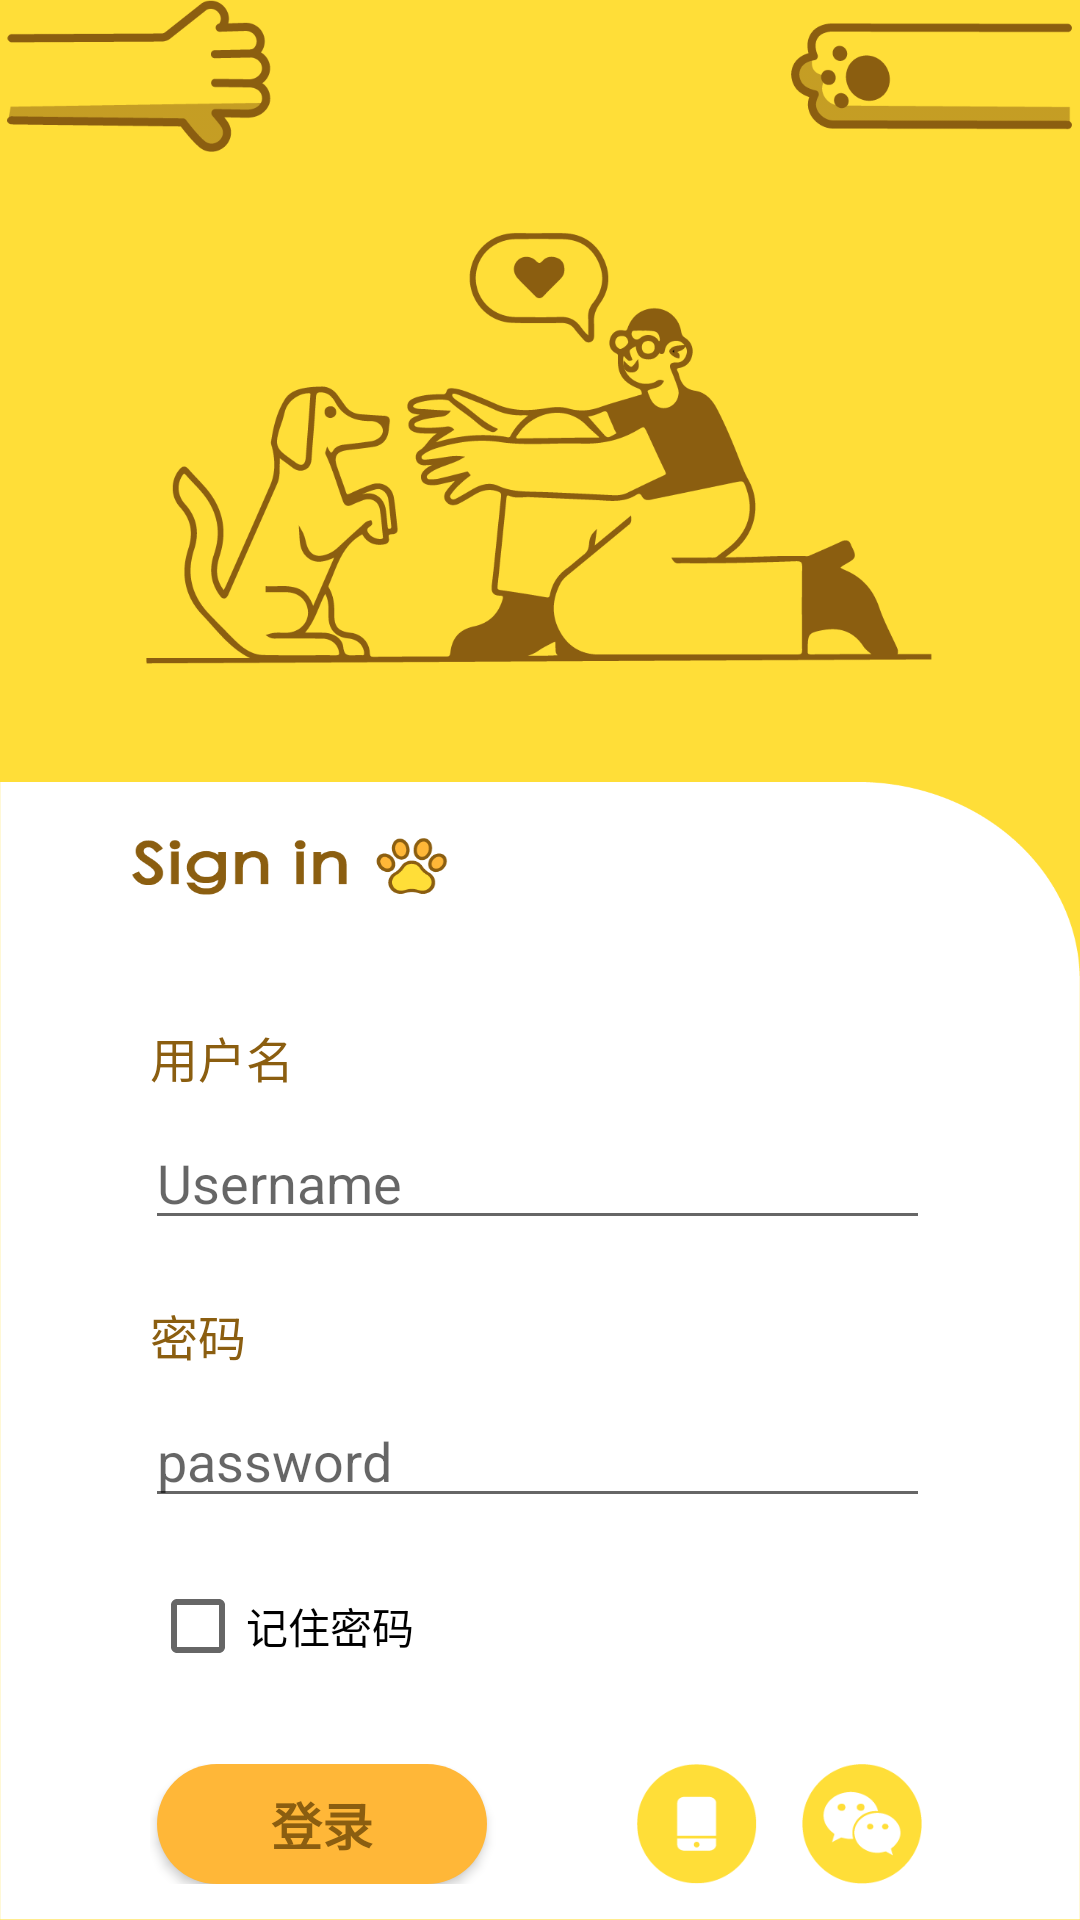

Icon bounding boxes for this 1080x1920 phone screenshot, format (x1, y1, x2, y2):
phone: (637, 1764, 756, 1884)
